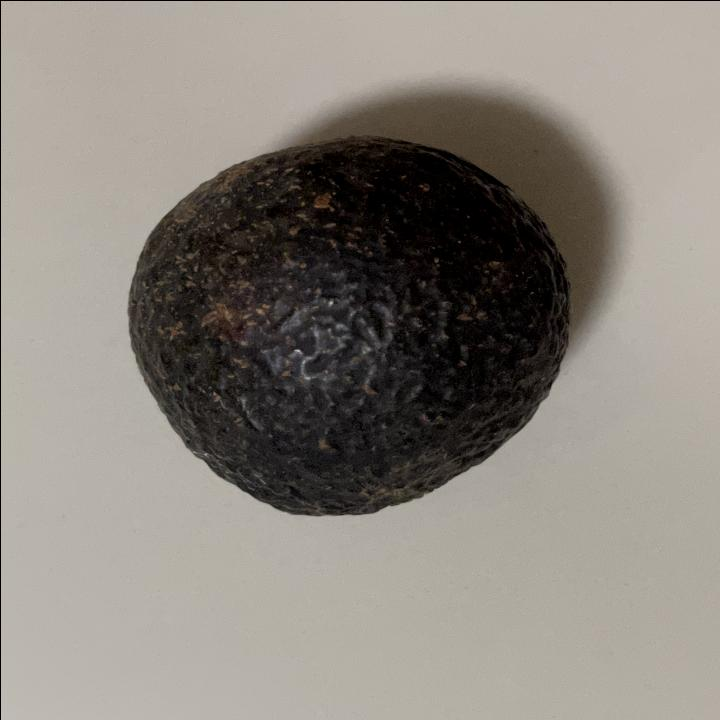Level2: (118, 129, 578, 525)
